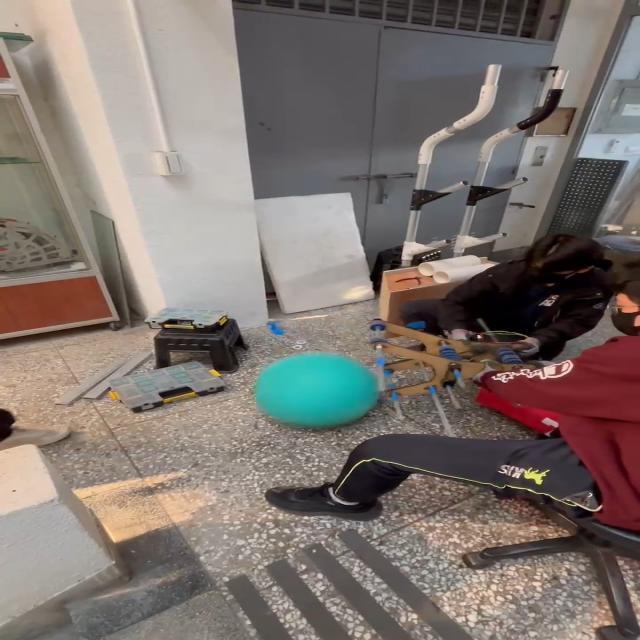ALGAE: (252, 351, 381, 429)
